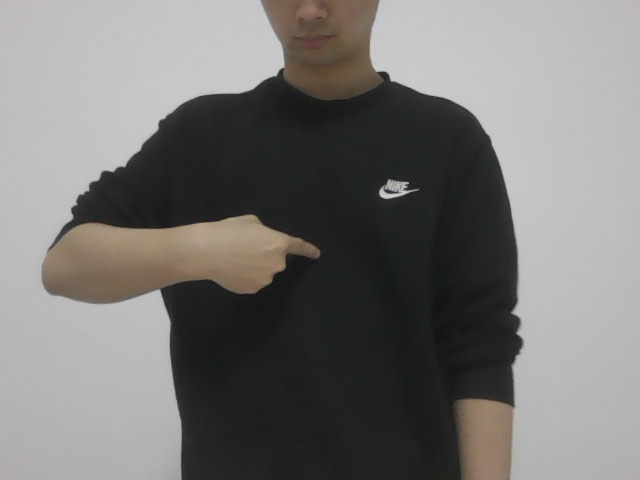I/me: (189, 211, 332, 294)
